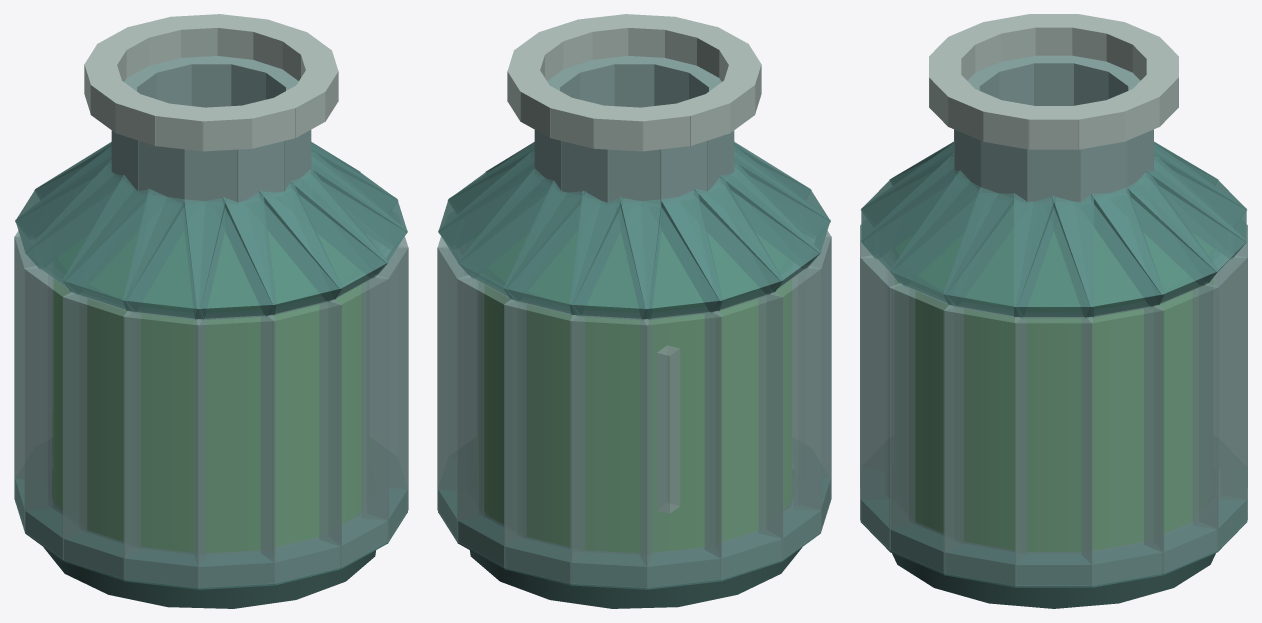
Rendered from CMU3DBottleDyloveneCloud.glb.
3 renders of one model, left to right at view 1: azimuth 30°, elevation 25°; view 2: azimuth 150°, elevation 25°; view 3: azimuth 270°, elevation 25°, orthographic.
Visible parts, largest first — view 1: static liquid volume level 5, hollow bottle wall 11, hollow bottle wall 12, hollow bottle wall 13, hollow bottle wall 10, hollow bottle wall 14, hollow bottle wall 09, hollow bottle wall 15, inward glass shoulder 11, inward glass shoulder 13, inward glass shoulder 12, hollow bottle wall 08 (+45 smaller); view 2: static liquid volume level 5, hollow bottle wall 07, hollow bottle wall 06, hollow bottle wall 05, hollow bottle wall 08, hollow bottle wall 04, hollow bottle wall 09, hollow bottle wall 03, inward glass shoulder 07, inward glass shoulder 05, inward glass shoulder 06, hollow bottle wall 10 (+46 smaller); view 3: static liquid volume level 5, hollow bottle wall 02, hollow bottle wall 16, hollow bottle wall 01, hollow bottle wall 03, hollow bottle wall 15, hollow bottle wall 04, hollow bottle wall 14, inward glass shoulder 02, inward glass shoulder 16, inward glass shoulder 01, inward glass shoulder 03 (+43 smaller).
Boxes of the visible parts, x1,y1,x2,y2 form: static liquid volume level 5: [54, 279, 360, 552]; hollow bottle wall 11: [123, 310, 205, 587]; hollow bottle wall 12: [194, 314, 275, 587]; hollow bottle wall 13: [261, 299, 341, 583]; hollow bottle wall 10: [62, 292, 140, 579]; hollow bottle wall 14: [319, 275, 388, 567]; hollow bottle wall 09: [24, 265, 86, 559]; hollow bottle wall 15: [362, 246, 408, 541]; inward glass shoulder 11: [123, 188, 226, 320]; inward glass shoulder 13: [222, 180, 342, 316]; inward glass shoulder 12: [184, 190, 276, 320]; hollow bottle wall 08: [14, 236, 51, 531]; static liquid volume level 5: [485, 279, 791, 552]; hollow bottle wall 07: [640, 310, 722, 587]; hollow bottle wall 06: [570, 314, 651, 587]; hollow bottle wall 05: [504, 299, 584, 583]; hollow bottle wall 08: [705, 292, 783, 579]; hollow bottle wall 04: [457, 275, 526, 567]; hollow bottle wall 09: [759, 265, 821, 559]; hollow bottle wall 03: [437, 246, 483, 541]; inward glass shoulder 07: [619, 188, 722, 320]; inward glass shoulder 05: [503, 180, 623, 316]; inward glass shoulder 06: [569, 190, 661, 320]; hollow bottle wall 10: [794, 236, 831, 531]; static liquid volume level 5: [895, 279, 1212, 551]; hollow bottle wall 02: [1081, 305, 1164, 585]; hollow bottle wall 16: [943, 305, 1026, 585]; hollow bottle wall 01: [1015, 315, 1092, 585]; hollow bottle wall 03: [1144, 283, 1218, 573]; hollow bottle wall 15: [889, 283, 963, 573]; hollow bottle wall 04: [1193, 255, 1247, 550]; hollow bottle wall 14: [860, 255, 914, 550]; inward glass shoulder 02: [1052, 187, 1164, 318]; inward glass shoulder 16: [943, 187, 1055, 318]; inward glass shoulder 01: [1014, 193, 1093, 317]; inward glass shoulder 03: [1091, 170, 1218, 307].
Size of the model in its own units: 0.3384 by 0.453 by 0.3384.
